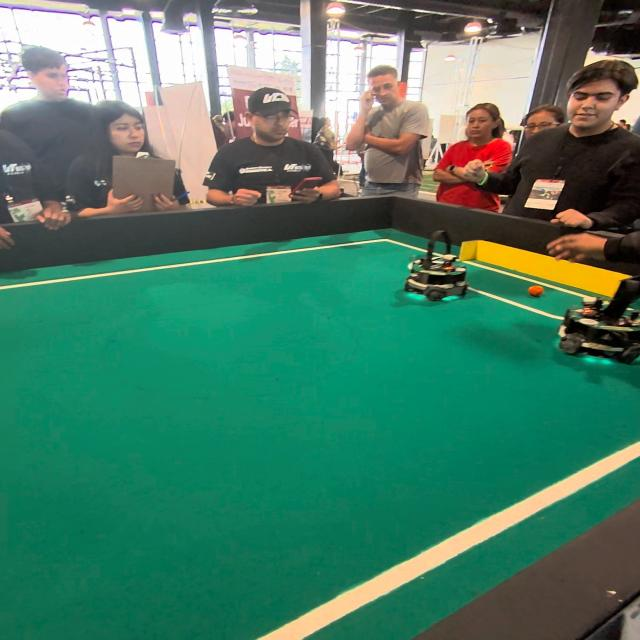Robot: (558, 274, 640, 375), (402, 230, 468, 308)
pelota: (520, 273, 551, 308)
